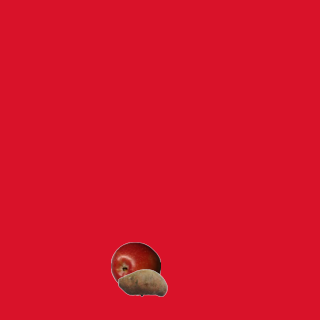Apple Braeburn: (110, 241, 160, 291)
Potato Sweet: (117, 257, 167, 307)
